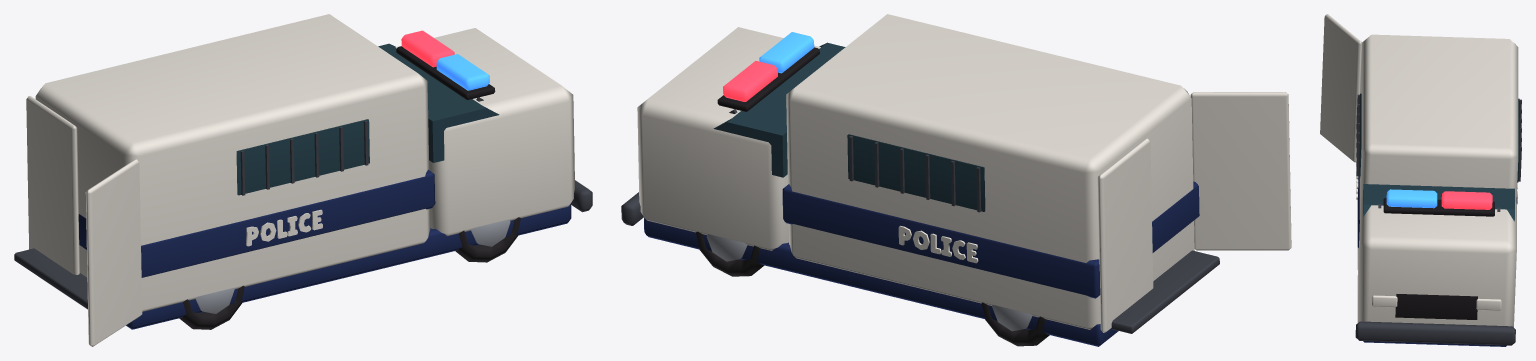
Rendered from city_police_van.glb.
3 views of the same model, side by side, from view 1: azimuth 30°, elevation 25°; view 2: azimuth 150°, elevation 25°; view 3: azimuth 270°, elevation 25° (orthographic). The views are drawn at different scales.
Visible parts, largest first — view 1: PoliceVan; view 2: PoliceVan; view 3: PoliceVan.
Boxes of the visible parts, x1,y1,x2,y2 form: PoliceVan: (14,14,592,346); PoliceVan: (621,14,1291,346); PoliceVan: (1320,14,1521,346).
Size of the model in its own units: 6.42 by 2.42 by 2.71.
